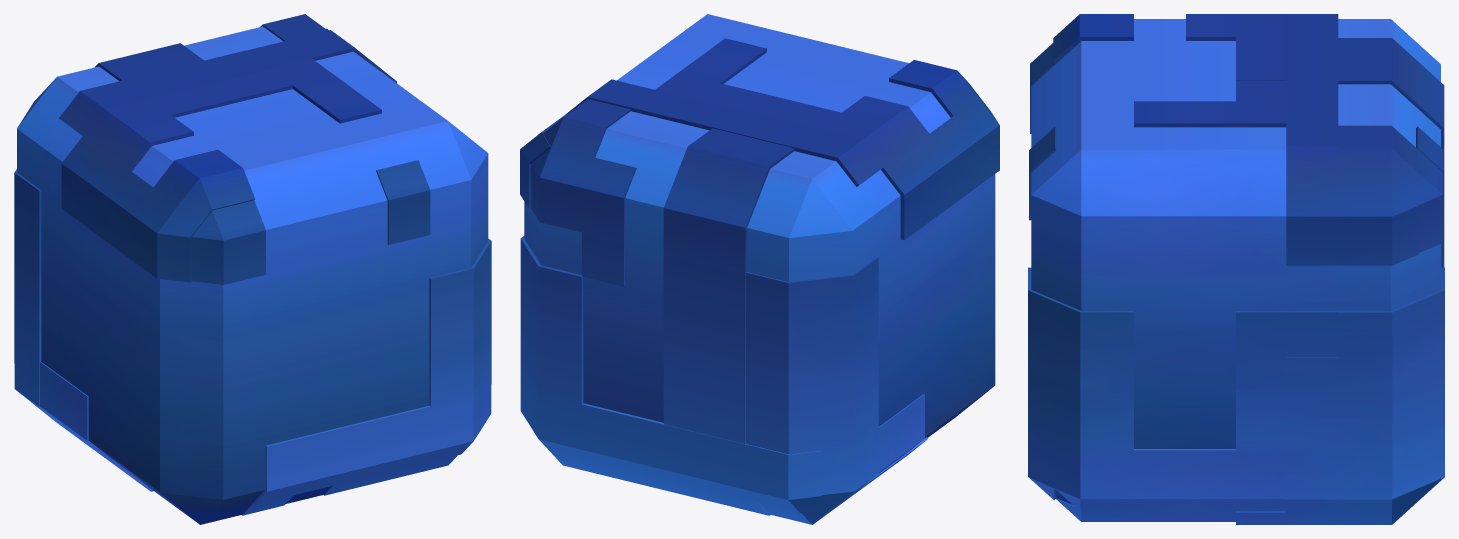
File: CyberPunkCubeShapeD.008.glb
3 renders of one model, left to right at view 1: azimuth 30°, elevation 25°; view 2: azimuth 150°, elevation 25°; view 3: azimuth 270°, elevation 25°, orthographic. The views are drawn at different scales.
Visible parts, largest first — view 1: CyberPunkCubeShapeD.008; view 2: CyberPunkCubeShapeD.008; view 3: CyberPunkCubeShapeD.008.
Boxes of the visible parts, x1,y1,x2,y2 form: CyberPunkCubeShapeD.008: (14,14,491,524); CyberPunkCubeShapeD.008: (520,14,999,524); CyberPunkCubeShapeD.008: (1028,14,1444,524).
Size of what is drawn, in the model's own units: 0.7775 by 0.7766 by 0.7741.
Materials: 1 (1 with a texture image).
